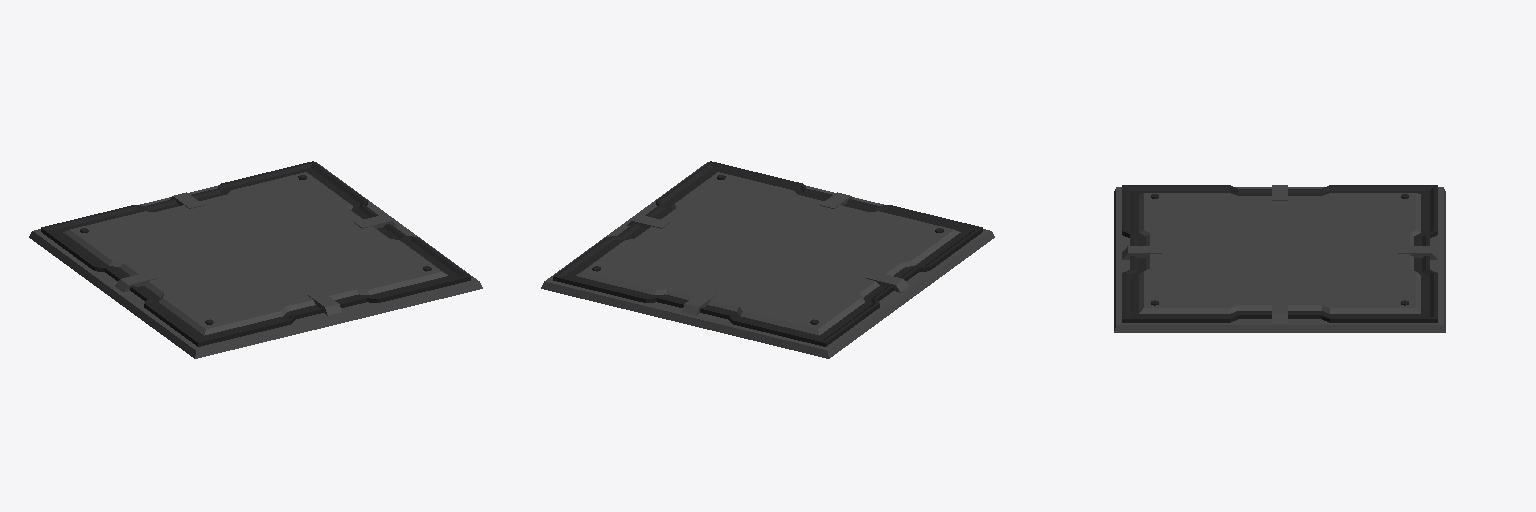
File: FloorTile_Basic.obj
The picture shows the model from 3 angles: view 1: azimuth 30°, elevation 25°; view 2: azimuth 150°, elevation 25°; view 3: azimuth 270°, elevation 25°; orthographic projection.
Parts seen in each view (by area): view 1: FloorTile_Basic_Plane.014; view 2: FloorTile_Basic_Plane.014; view 3: FloorTile_Basic_Plane.014.
Part boxes in pixels (left/top/right/bottom): FloorTile_Basic_Plane.014: left=29, top=161, right=482, bottom=358; FloorTile_Basic_Plane.014: left=541, top=161, right=994, bottom=358; FloorTile_Basic_Plane.014: left=1114, top=185, right=1445, bottom=332.
Bounding box in the file's own units: 2 × 0.0934 × 2.